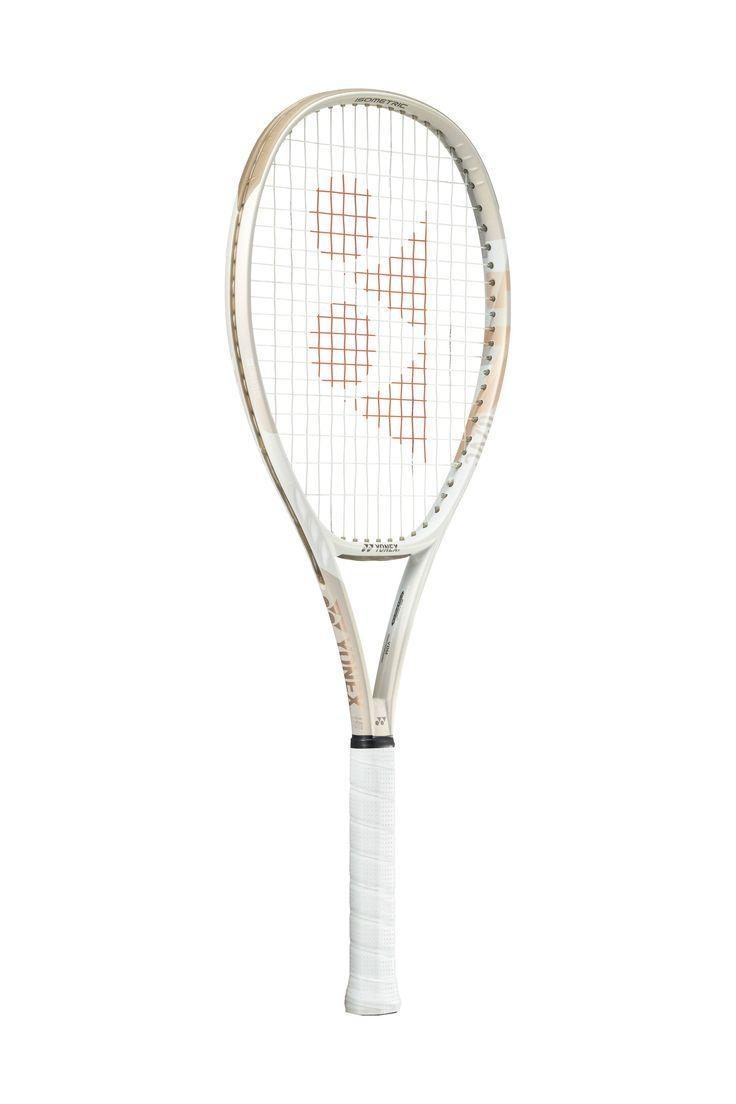Tennis-Racket: (226, 91, 509, 1002)
